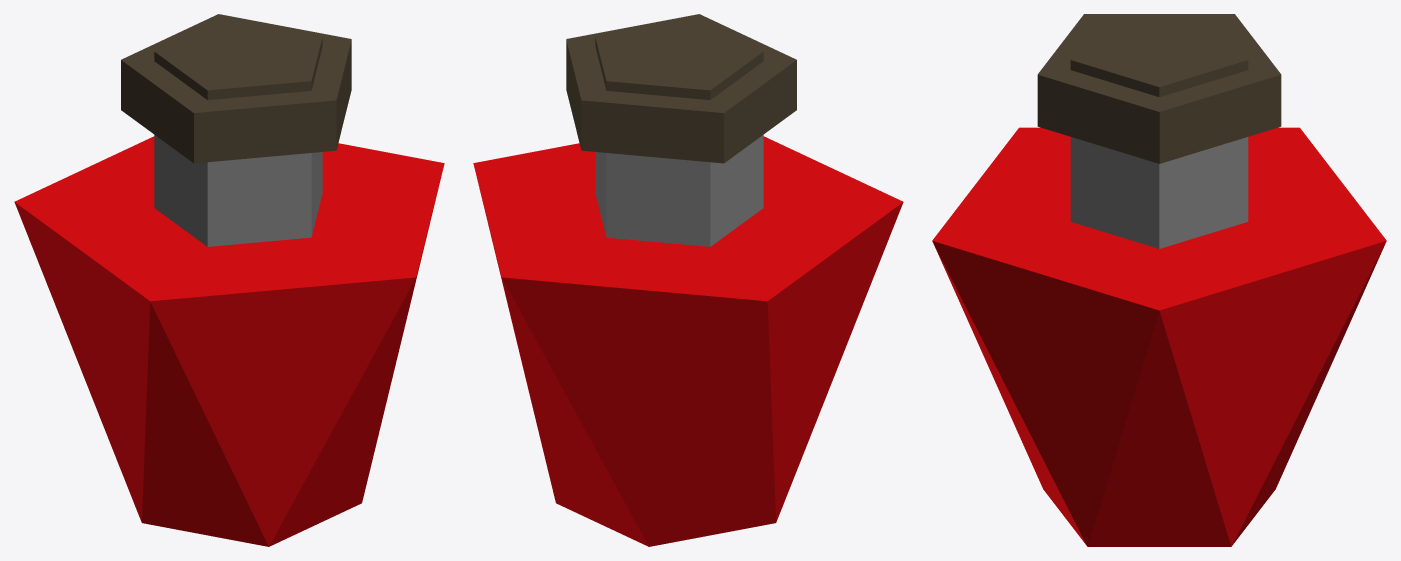
The model's file is Potion3.fbx.
3 renders of one model, left to right at view 1: azimuth 30°, elevation 25°; view 2: azimuth 150°, elevation 25°; view 3: azimuth 270°, elevation 25°, orthographic. The views are drawn at different scales.
Parts seen in each view (by area): view 1: Potion; view 2: Potion; view 3: Potion.
Part boxes in pixels (x1,y1,x2,y2): Potion: [14, 14, 444, 546]; Potion: [473, 14, 903, 546]; Potion: [932, 14, 1386, 546].
Bounding box in the file's own units: 24.27 × 28.33 × 25.52.
